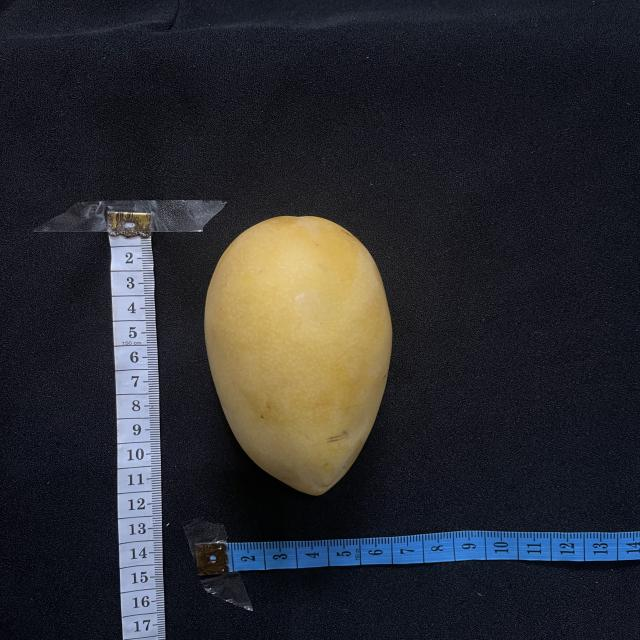Ripe: (205, 216, 392, 495)
